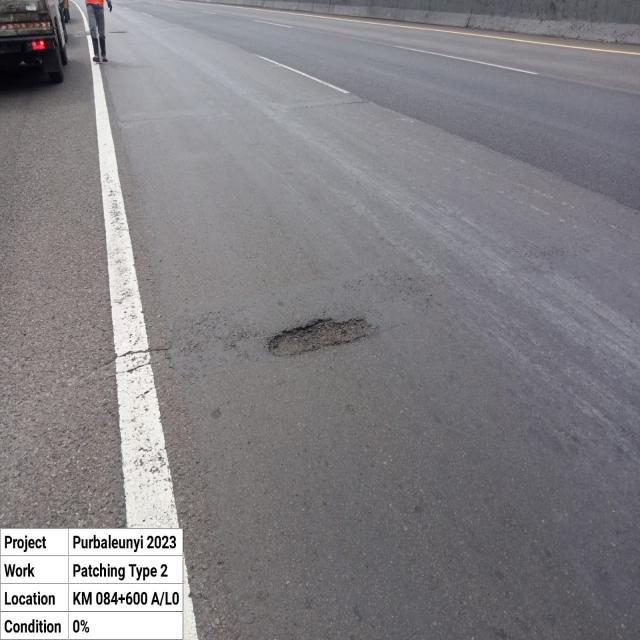Buraco: (264, 314, 384, 360), (106, 30, 128, 34)
